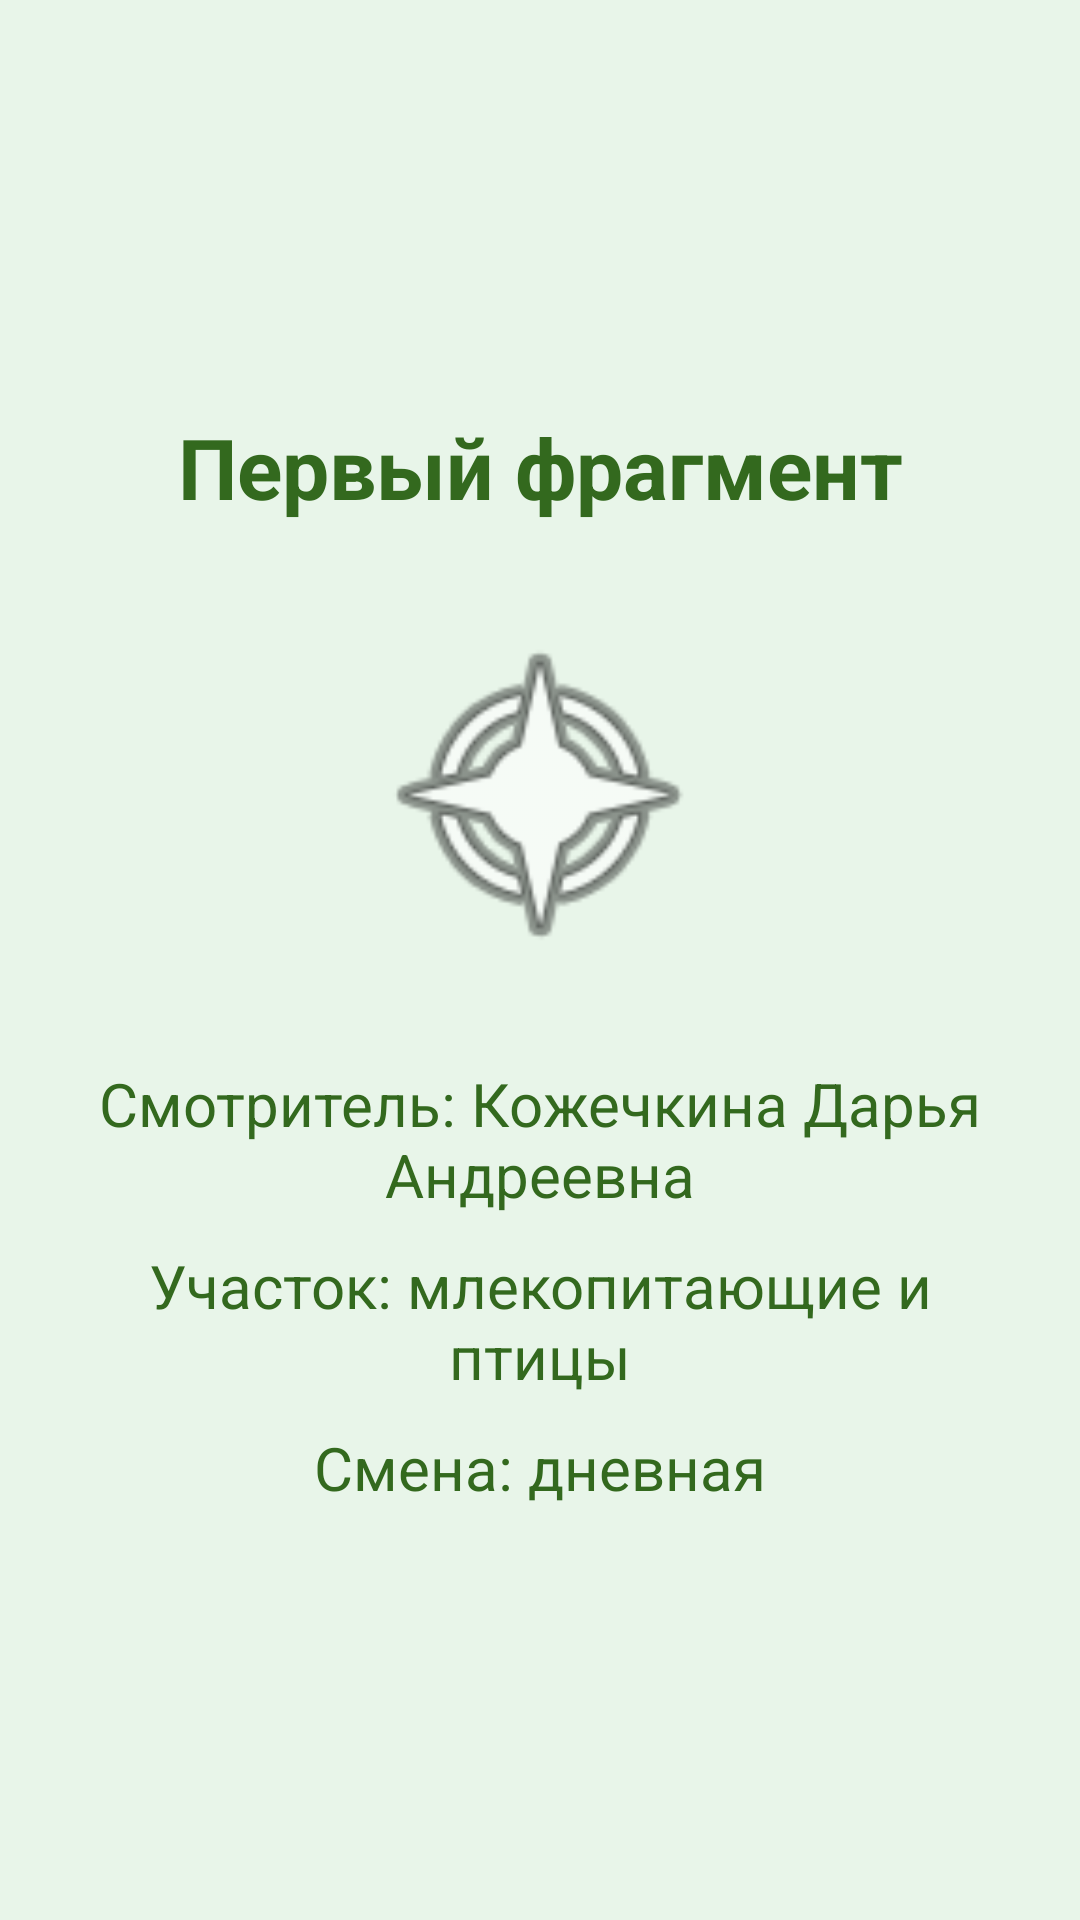

Icon click points for this 1080x1920 phone screenshot, format (x=x, y=y):
compass: (x=538, y=795)
